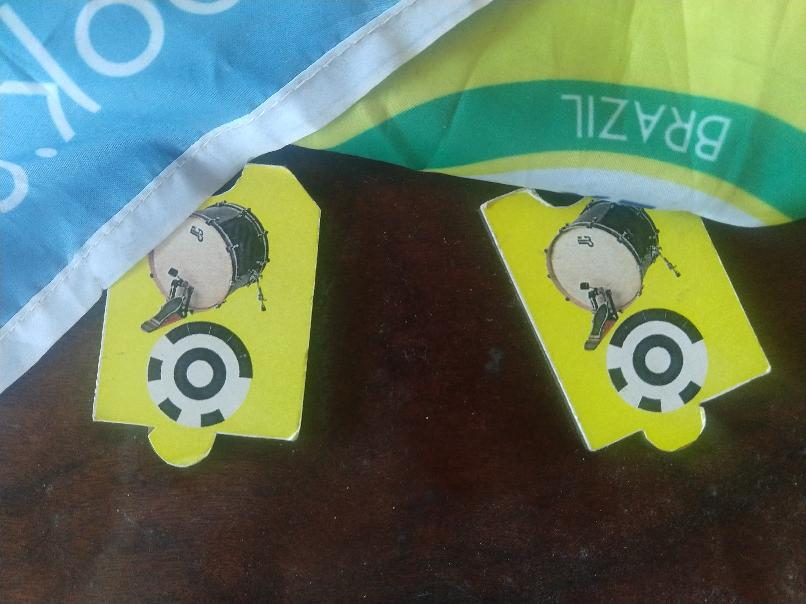bumbo: (480, 161, 772, 457), (90, 153, 322, 480)
